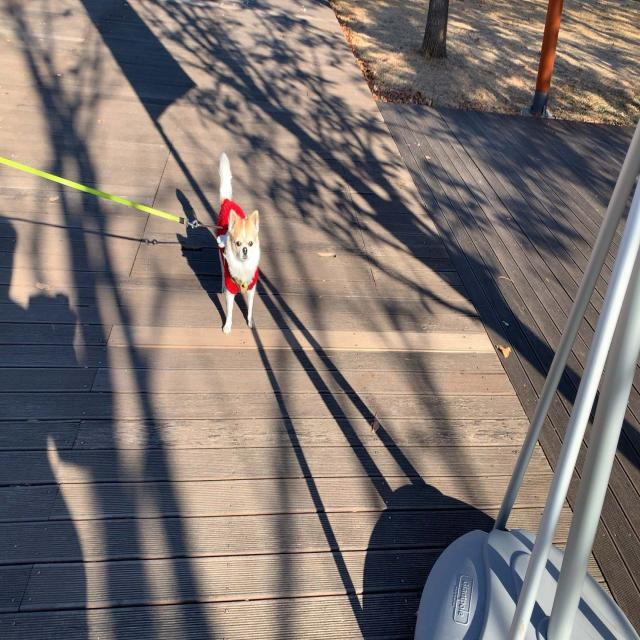Dog: (215, 150, 261, 335)
